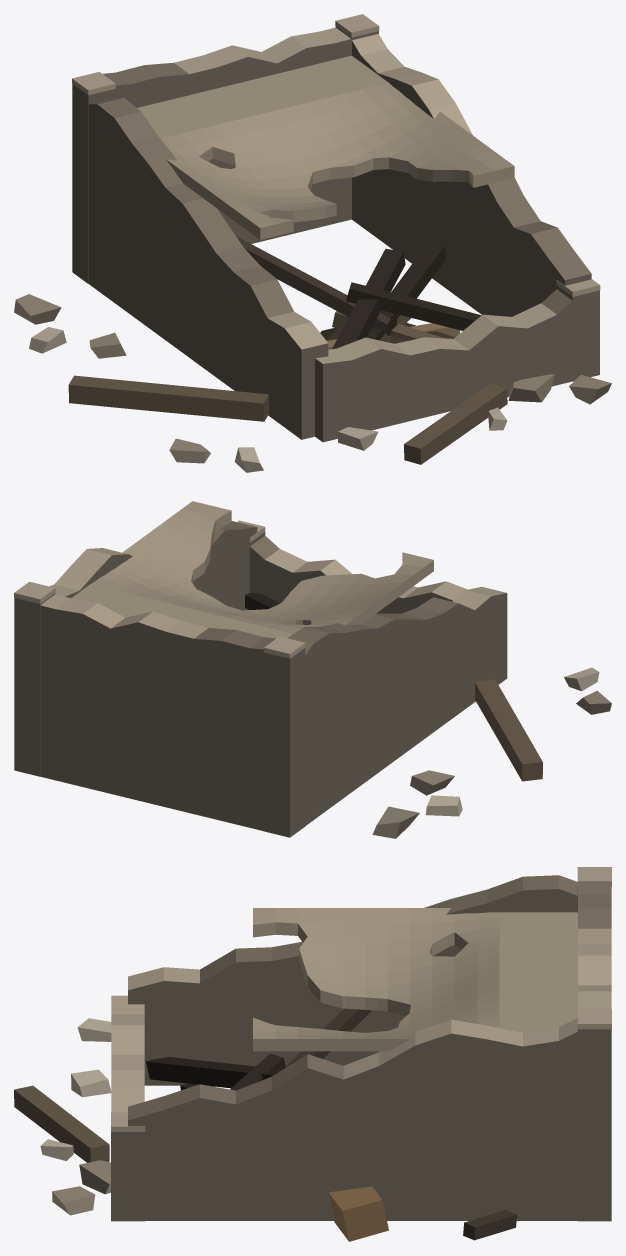
File: VerHut01a.glb
3 views of the same model, one above another, from view 1: azimuth 30°, elevation 25°; view 2: azimuth 150°, elevation 25°; view 3: azimuth 270°, elevation 25° (orthographic). The views are drawn at different scales.
Visible parts, largest first — view 1: VerHut01a_flat; view 2: VerHut01a_flat; view 3: VerHut01a_flat.
Boxes of the visible parts, box(x1,y1,x2,y2) form: VerHut01a_flat: box(14, 14, 611, 472); VerHut01a_flat: box(14, 501, 611, 838); VerHut01a_flat: box(14, 867, 611, 1241).
Bounding box in the file's own units: 5.26 × 2.11 × 5.5.
